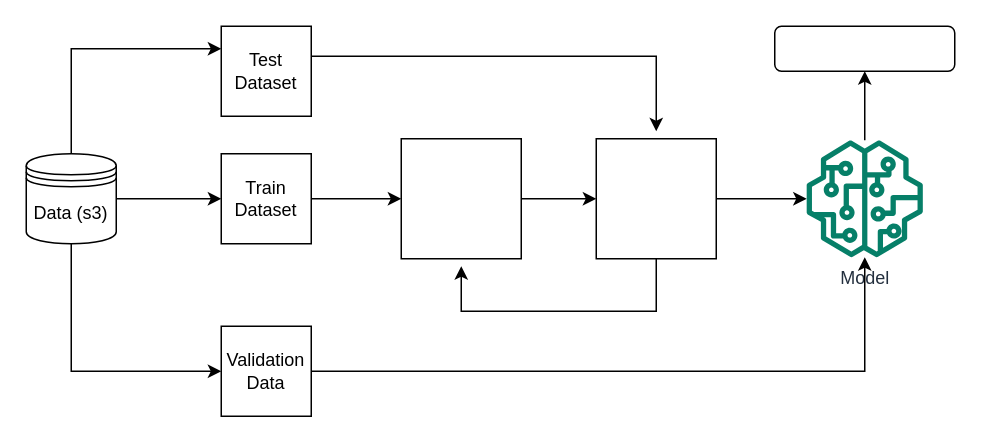
This 981x443 diagram has some shape labels left out. The shapes that lost their labels are listed below. From the top down, each one's box as (x1, y1, x2, y2) in pixels, then its label:
(773, 25, 955, 71): Prediction
(400, 137, 521, 259): Algorithm
(595, 137, 716, 259): Evaluation
